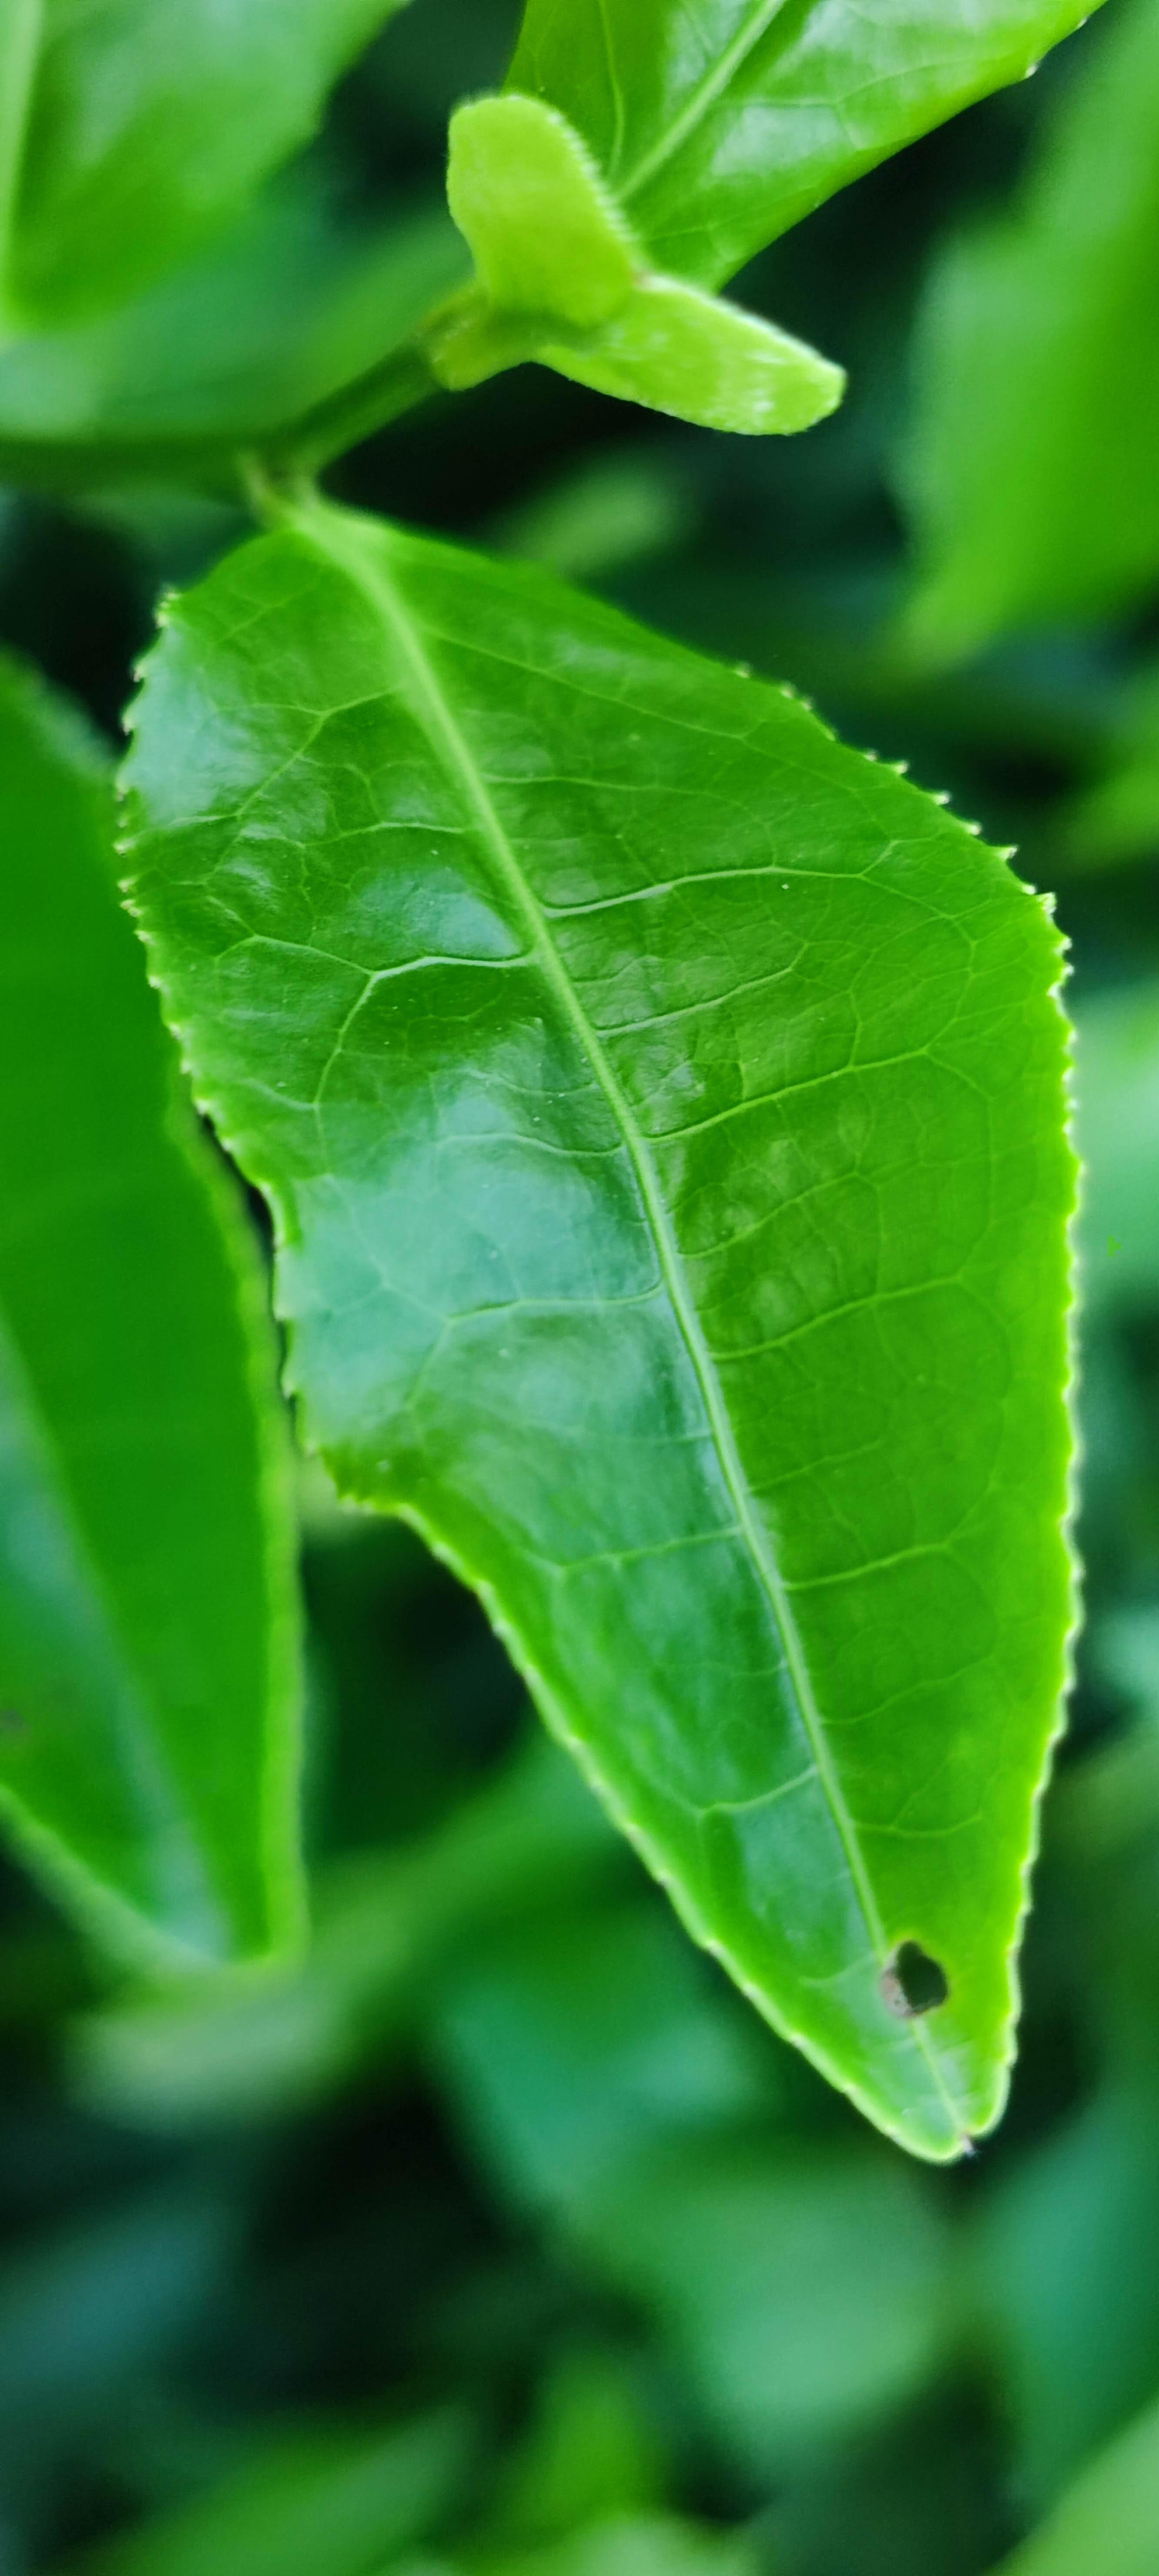chihuo_low: (112, 516, 1090, 2169)
healthy: (443, 92, 849, 444)
